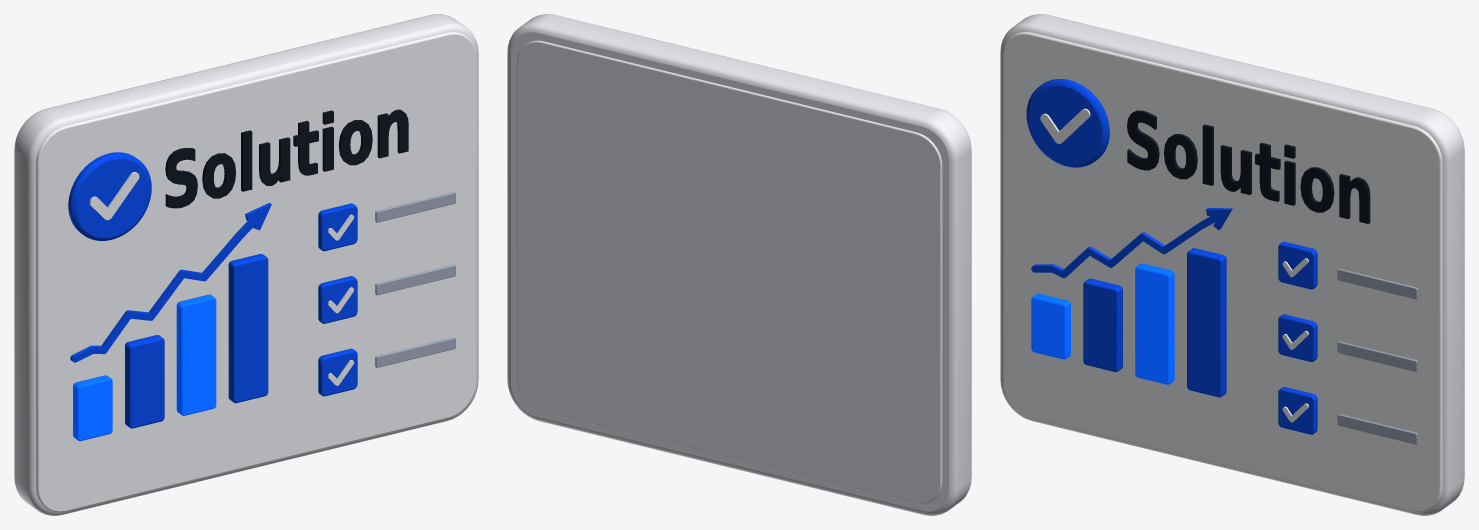
Rendered from 12-nodeworks-solution-board.glb.
3 renders of one model, left to right at view 1: azimuth 30°, elevation 25°; view 2: azimuth 150°, elevation 25°; view 3: azimuth 330°, elevation 25°, orthographic.
Parts seen in each view (by area): view 1: white_front_face, white_solution_board_housing, solution_title, chart_bar_4, blue_solution_badge, chart_bar_3, chart_bar_2, rising_chart_trend_arrow, chart_bar_1, checklist_1_blue_tile, checklist_2_blue_tile, checklist_3_blue_tile (+4 smaller); view 2: rear_cover, white_solution_board_housing; view 3: white_front_face, white_solution_board_housing, solution_title, chart_bar_4, blue_solution_badge, chart_bar_3, chart_bar_2, chart_bar_1, rising_chart_trend_arrow, checklist_1_blue_tile, checklist_3_blue_tile, checklist_2_blue_tile (+4 smaller).
Boxes of the visible parts, x1,y1,x2,y2 form: white_front_face: (36, 32, 476, 512); white_solution_board_housing: (14, 14, 478, 515); solution_title: (165, 109, 408, 208); chart_bar_4: (228, 254, 268, 403); blue_solution_badge: (68, 152, 151, 240); chart_bar_3: (176, 294, 216, 415); chart_bar_2: (125, 335, 164, 428); rising_chart_trend_arrow: (70, 202, 271, 362); chart_bar_1: (73, 375, 112, 441); checklist_1_blue_tile: (318, 203, 357, 251); checklist_2_blue_tile: (318, 276, 357, 323); checklist_3_blue_tile: (318, 348, 357, 396); rear_cover: (516, 40, 942, 503); white_solution_board_housing: (507, 14, 971, 515); white_front_face: (1002, 32, 1442, 512); white_solution_board_housing: (1000, 14, 1464, 515); solution_title: (1127, 110, 1370, 223); chart_bar_4: (1187, 248, 1226, 397); blue_solution_badge: (1026, 79, 1109, 167); chart_bar_3: (1135, 263, 1174, 384); chart_bar_2: (1083, 278, 1122, 372); chart_bar_1: (1031, 293, 1070, 359); rising_chart_trend_arrow: (1031, 207, 1232, 278); checklist_1_blue_tile: (1278, 241, 1317, 289); checklist_3_blue_tile: (1278, 387, 1317, 434); checklist_2_blue_tile: (1278, 314, 1317, 361).
Bounding box in the file's own units: 1.9 × 1.6 × 0.2105.
